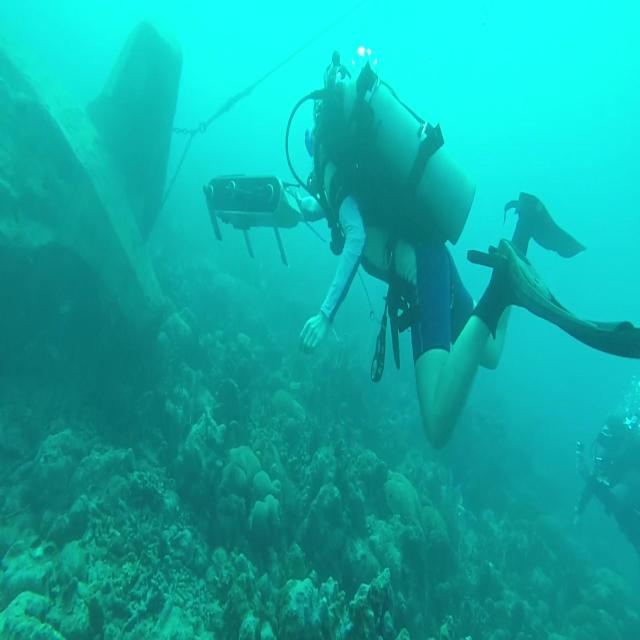human: (288, 56, 639, 449)
